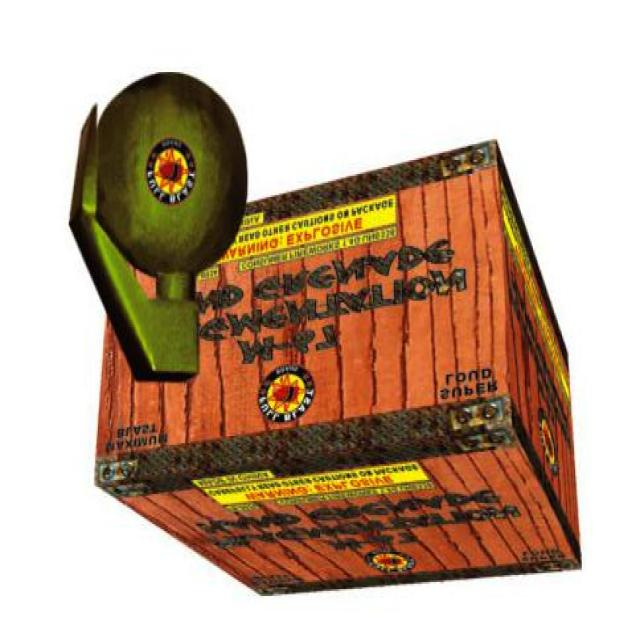grenade: (69, 70, 250, 386)
